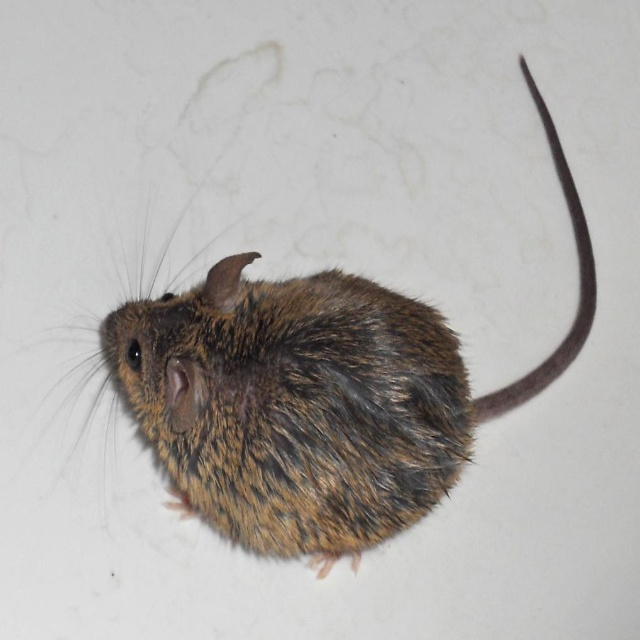Mouse: (16, 53, 597, 580)
